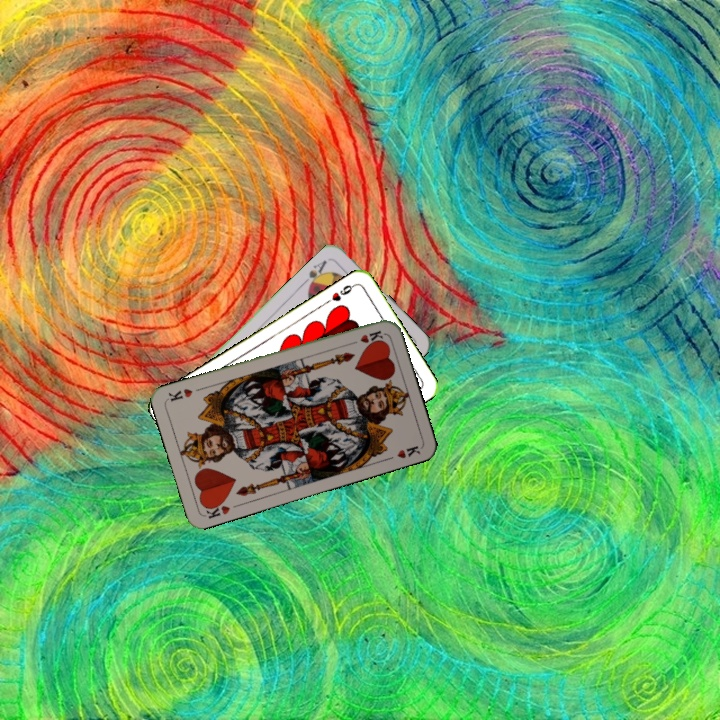H9: (321, 280, 358, 306)
HK: (346, 326, 386, 348), (200, 497, 233, 521)
SA: (299, 256, 330, 291)
